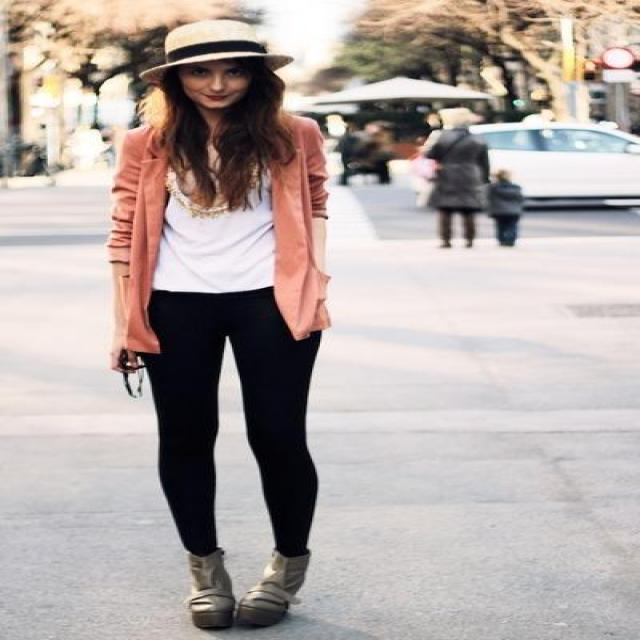hat: (165, 20, 286, 79)
jacket: (108, 93, 330, 357)
pants: (136, 286, 320, 557)
shirt: (154, 198, 274, 292)
shoe: (189, 550, 309, 632)
